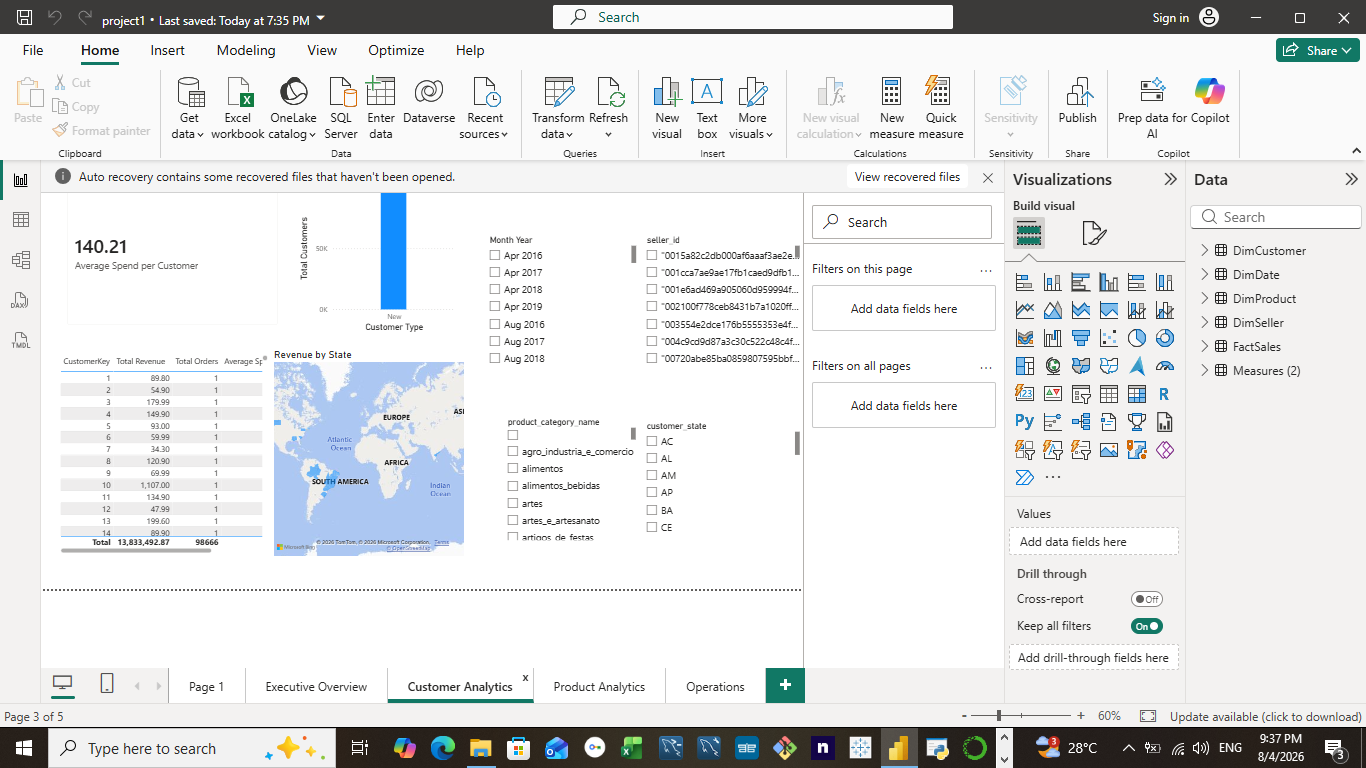

The dashboard page shown, as its layout file describes it:
{"tool":"powerbi","page":{"name":"Customer Analytics","canvas":[1280,720],"ordinal":2},"visuals":[{"type":"columnChart","title":"Customer Analytics","fields":{"Category":["FactSales.Customer Type"],"Y":["FactSales.Total Customers"]},"box":[428.3,13.4,272.1,280.5],"z":0},{"type":"filledMap","title":"Revenue by State","fields":{"Category":["DimCustomer.customer_state"]},"box":[386.4,315.8,329.2,354.4],"z":1000},{"type":"cardVisual","fields":{"Data":["FactSales.Average Spend per Customer"]},"box":[26.9,11.8,388,282.2],"z":2000},{"type":"tableEx","fields":{"Values":["DimCustomer.CustomerKey","FactSales.Total Revenue","FactSales.Total Orders","FactSales.Average Spend per Customer"]},"box":[26.9,322.5,359.5,342.7],"z":3000},{"type":"slicer","fields":{"Values":["DimDate.Month Year"]},"box":[740.8,120.9,263.7,230.1],"z":3001},{"type":"slicer","fields":{"Values":["DimProduct.product_category_name"]},"box":[771,426.7,233.5,216.7],"z":3002},{"type":"slicer","fields":{"Values":["DimSeller.seller_id"]},"box":[1004.5,120.9,275.5,231.8],"z":3003},{"type":"slicer","fields":{"Values":["DimCustomer.customer_state"]},"box":[1004.5,433.4,275.5,204.9],"z":3004}]}

Visuals, with their boxes on the page's 1280x720 design canvas (x1, y1, x2, y2). These are canvas units, not pixel positions in the 1366x768 screenshot, which may show the page scaled, cropped or inside an application window:
"Customer Analytics" columnChart: pyautogui.locateOnScreen(428, 13, 700, 294)
"Revenue by State" filledMap: pyautogui.locateOnScreen(386, 316, 716, 670)
cardVisual - FactSales.Average Spend per Customer: pyautogui.locateOnScreen(27, 12, 415, 294)
tableEx - DimCustomer.CustomerKey x FactSales.Total Revenue: pyautogui.locateOnScreen(27, 322, 386, 665)
slicer - DimDate.Month Year: pyautogui.locateOnScreen(741, 121, 1004, 351)
slicer - DimProduct.product_category_name: pyautogui.locateOnScreen(771, 427, 1004, 643)
slicer - DimSeller.seller_id: pyautogui.locateOnScreen(1004, 121, 1280, 353)
slicer - DimCustomer.customer_state: pyautogui.locateOnScreen(1004, 433, 1280, 638)
